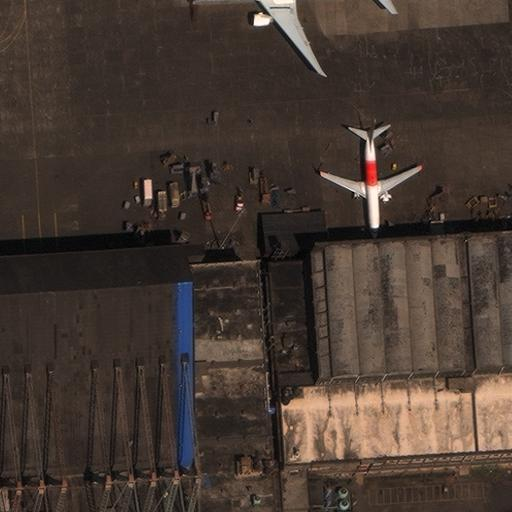Large Civil Transport: (190, 0, 377, 74)
Medium Civil Transport: (321, 119, 421, 240)
